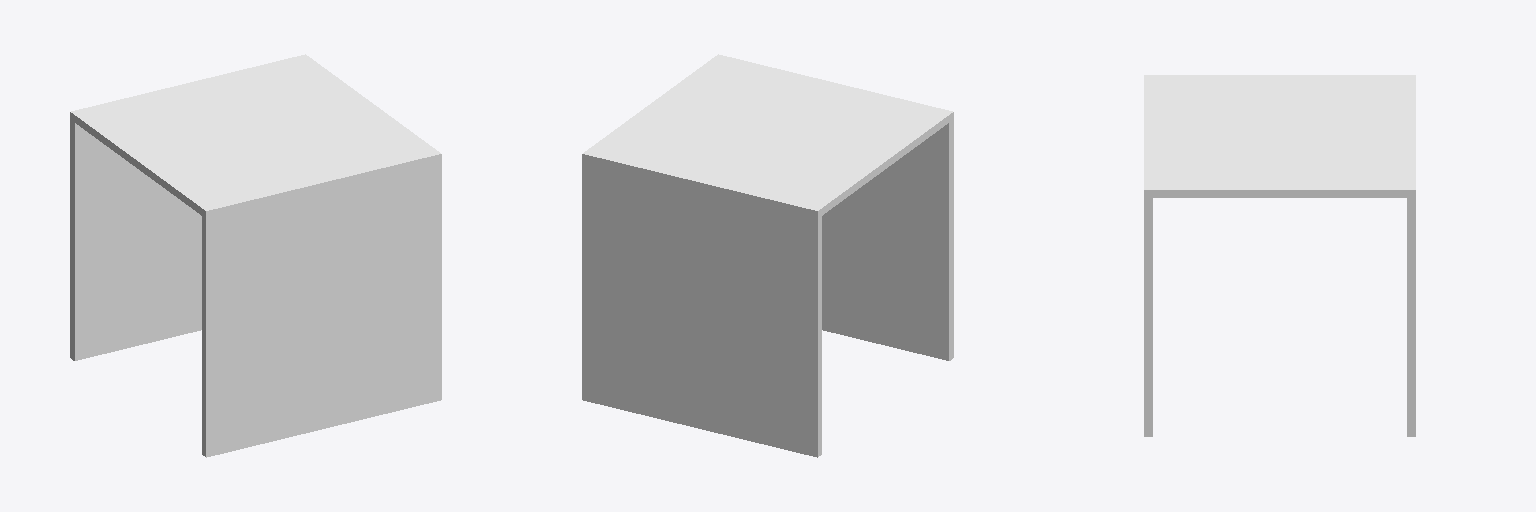
3 renders of one model, left to right at view 1: azimuth 30°, elevation 25°; view 2: azimuth 150°, elevation 25°; view 3: azimuth 270°, elevation 25°, orthographic.
Parts seen in each view (by area): view 1: test-54; view 2: test-54; view 3: test-54.
Part boxes in pixels (x1,y1,x2,y2): test-54: (70, 54, 441, 457); test-54: (582, 54, 953, 457); test-54: (1144, 75, 1415, 436).
Size of the model in its own units: 32 by 32 by 32.